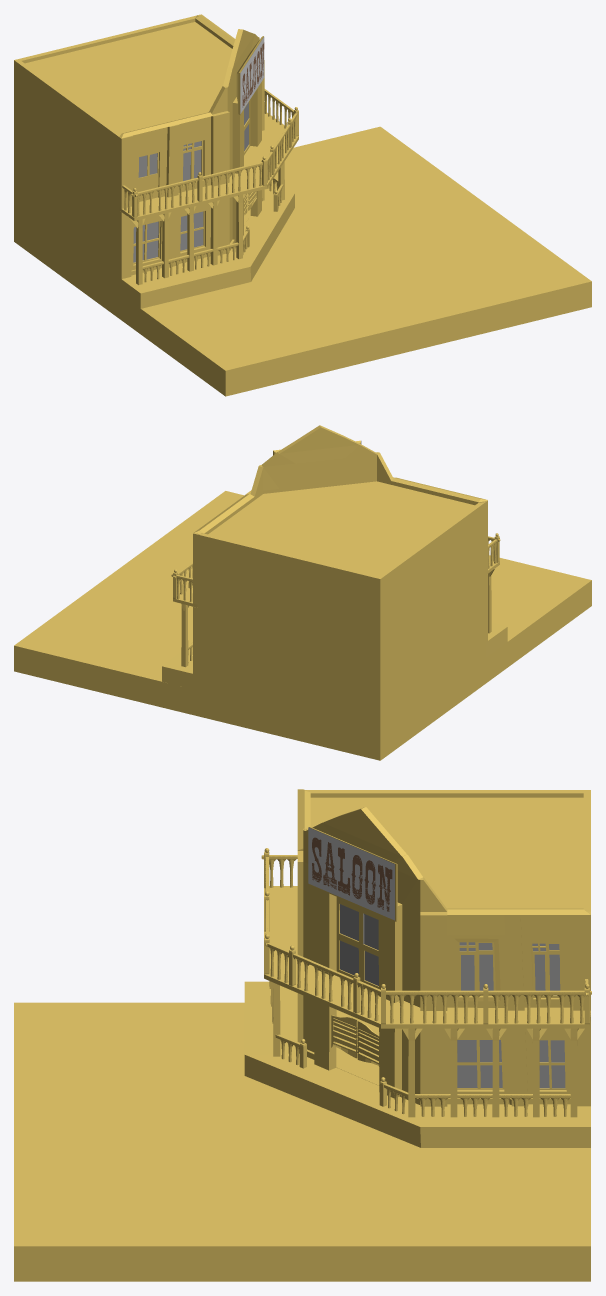
The model's file is saloon.fbx.
The picture shows the model from 3 angles, top to bottom: view 1: azimuth 30°, elevation 25°; view 2: azimuth 150°, elevation 25°; view 3: azimuth 270°, elevation 25°; orthographic projection. The views are drawn at different scales.
Parts seen in each view (by area): view 1: Walls, sign, Text; view 2: Walls, pillar.001; view 3: Walls, sign, Text, Plane, door1, door2, pillar.001, pillar.003, pillar, pillar.010, pillar.002.
Boxes of the visible parts, bbox=[...] form: Walls: bbox=[14, 14, 591, 396]; sign: bbox=[240, 37, 264, 113]; Text: bbox=[242, 42, 264, 107]; Walls: bbox=[14, 425, 591, 760]; pillar.001: bbox=[181, 603, 188, 667]; Walls: bbox=[14, 789, 590, 1281]; sign: bbox=[308, 827, 394, 920]; Text: bbox=[312, 837, 392, 911]; Plane: bbox=[336, 1010, 379, 1085]; door1: bbox=[331, 1015, 357, 1058]; door2: bbox=[357, 1020, 379, 1066]; pillar.001: bbox=[564, 1028, 584, 1117]; pillar.003: bbox=[444, 1028, 464, 1117]; pillar: bbox=[486, 1028, 506, 1117]; pillar.010: bbox=[402, 1028, 422, 1117]; pillar.002: bbox=[527, 1028, 546, 1117].
Bounding box in the file's own units: 1398 × 868 × 1397.
